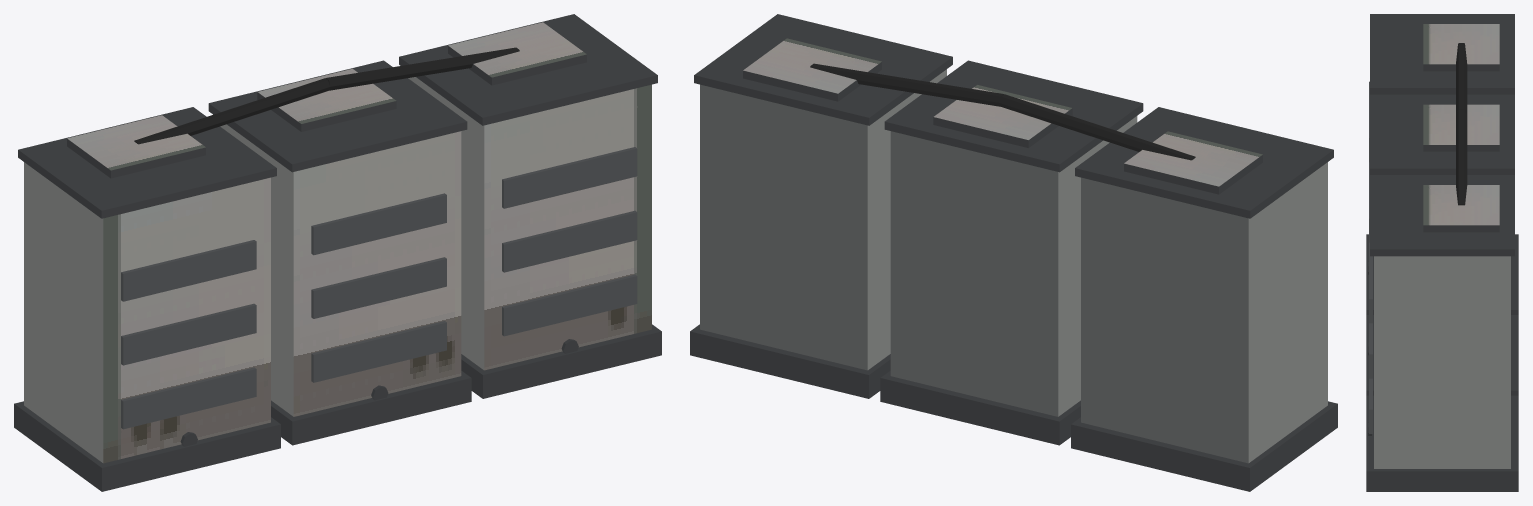
The model's file is Building_AncientSystemRack.glb.
The picture shows the model from 3 angles, left to right: view 1: azimuth 30°, elevation 25°; view 2: azimuth 150°, elevation 25°; view 3: azimuth 270°, elevation 25°; orthographic projection. The views are drawn at different scales.
Visible parts, largest first — view 1: AncientSystemRack; view 2: AncientSystemRack; view 3: AncientSystemRack.
Part boxes in pixels (left/top/right/bottom): AncientSystemRack: left=14, top=14, right=661, bottom=491; AncientSystemRack: left=690, top=14, right=1337, bottom=491; AncientSystemRack: left=1366, top=14, right=1518, bottom=491.
Bounding box in the file's own units: 2.94 × 1.53 × 0.8.
Materials: 1 (1 with a texture image).
